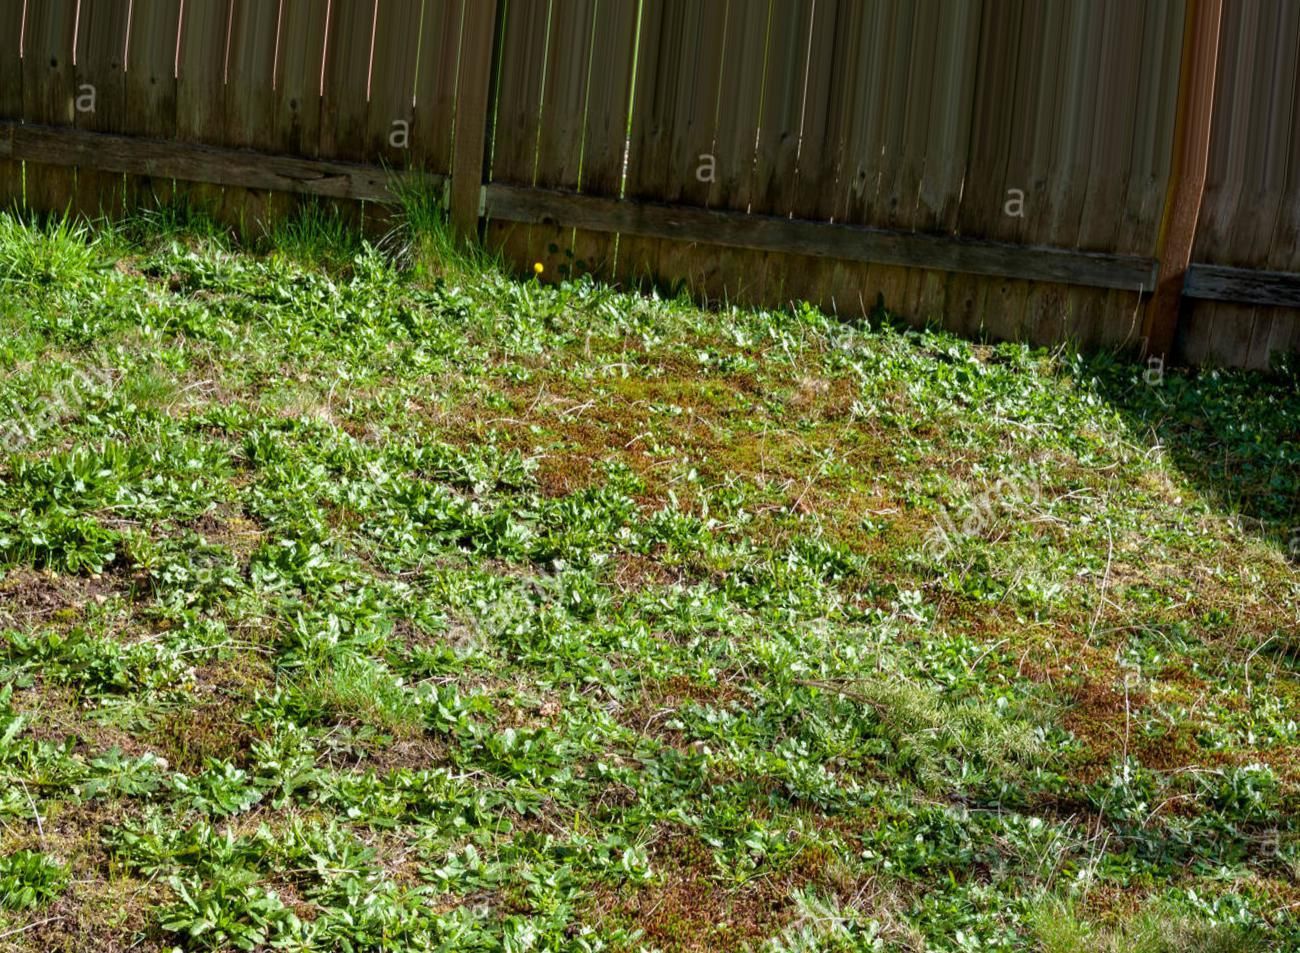patch: (484, 342, 962, 560)
